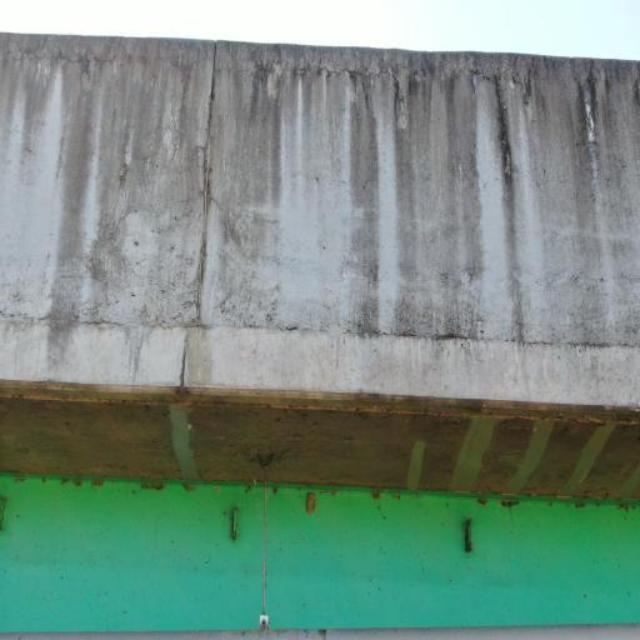D01: (278, 74, 357, 329), (2, 70, 65, 317), (474, 74, 509, 341), (378, 78, 401, 329)
